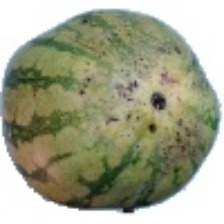watermelon: (49, 34, 189, 206)
